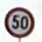limite 50: (3, 6, 35, 38)
